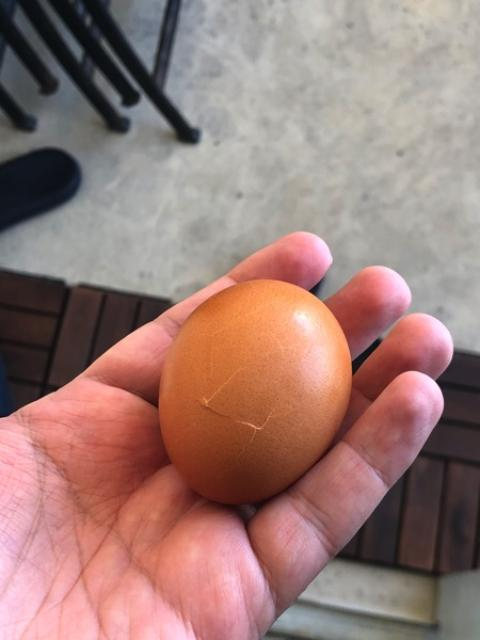Roto: (157, 277, 353, 506)
